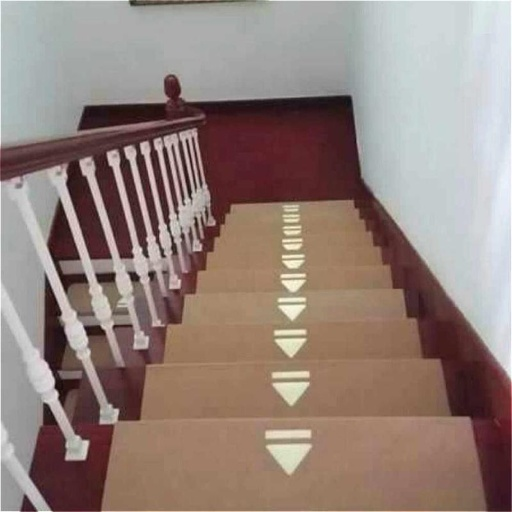Stairs: (104, 201, 485, 510)
